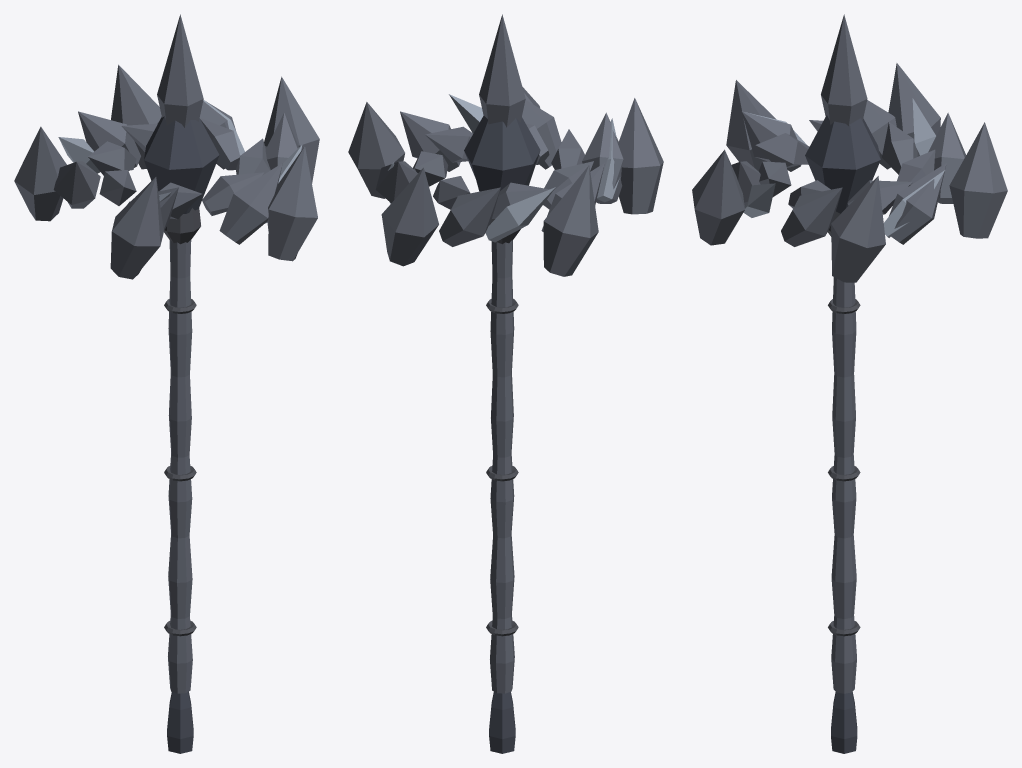
Rendered from staff_stonemace.glb.
The picture shows the model from 3 angles, left to right: view 1: azimuth 30°, elevation 25°; view 2: azimuth 150°, elevation 25°; view 3: azimuth 270°, elevation 25°; orthographic projection.
Visible parts, largest first — view 1: Sm_Shaft, Sm_Core, Sm_Shard0_4, Sm_Shard0_3, Sm_Spire, Sm_Shard0_2, Sm_Shard1_4, Sm_Shard0_1, Sm_Shard0_0, Sm_Shard1_2, Sm_Butt, Sm_Shard1_1 (+10 smaller); view 2: Sm_Shaft, Sm_Core, Sm_Shard0_2, Sm_Shard0_3, Sm_Shard0_1, Sm_Spire, Sm_Shard0_0, Sm_Shard1_1, Sm_Shard1_3, Sm_Facet1, Sm_Butt, Sm_Shard1_5 (+11 smaller); view 3: Sm_Shaft, Sm_Core, Sm_Shard0_1, Sm_Shard0_0, Sm_Shard0_4, Sm_Spire, Sm_Shard1_5, Sm_Shard1_0, Sm_Shard0_2, Sm_Shard0_3, Sm_Shard1_1, Sm_Butt (+11 smaller).
Boxes of the visible parts, box(x1,y1,x2,y2) form: Sm_Shaft: box(168, 240, 192, 693); Sm_Core: box(144, 116, 219, 213); Sm_Shard0_4: box(267, 146, 317, 261); Sm_Shard0_3: box(110, 177, 163, 279); Sm_Spire: box(157, 14, 203, 127); Sm_Shard0_2: box(14, 126, 66, 221); Sm_Shard1_4: box(219, 163, 282, 244); Sm_Shard0_1: box(111, 64, 161, 169); Sm_Shard0_0: box(264, 76, 319, 183); Sm_Shard1_2: box(53, 161, 100, 208); Sm_Butt: box(167, 691, 193, 753); Sm_Shard1_1: box(78, 111, 140, 170); Sm_Shaft: box(490, 240, 514, 693); Sm_Core: box(464, 115, 540, 191); Sm_Shard0_2: box(543, 165, 598, 276); Sm_Shard0_3: box(618, 98, 663, 214); Sm_Shard0_1: box(381, 167, 438, 266); Sm_Spire: box(479, 14, 525, 127); Sm_Shard0_0: box(348, 102, 404, 198); Sm_Shard1_1: box(439, 187, 500, 246); Sm_Shard1_3: box(582, 112, 623, 203); Sm_Facet1: box(485, 187, 555, 242); Sm_Butt: box(489, 691, 515, 753); Sm_Shard1_5: box(400, 111, 460, 171); Sm_Shaft: box(831, 277, 856, 693); Sm_Core: box(805, 115, 880, 213); Sm_Shard0_1: box(949, 122, 1007, 238); Sm_Shard0_0: box(831, 176, 885, 282); Sm_Shard0_4: box(692, 149, 744, 245); Sm_Spire: box(821, 14, 867, 126); Sm_Shard1_5: box(781, 187, 842, 246); Sm_Shard1_0: box(889, 163, 946, 244); Sm_Shard0_2: box(888, 63, 940, 156); Sm_Shard0_3: box(726, 80, 776, 170); Sm_Shard1_1: box(928, 112, 965, 203); Sm_Butt: box(831, 692, 857, 753).
Size of the model in its own units: 0.9113 by 2.37 by 0.9241.
